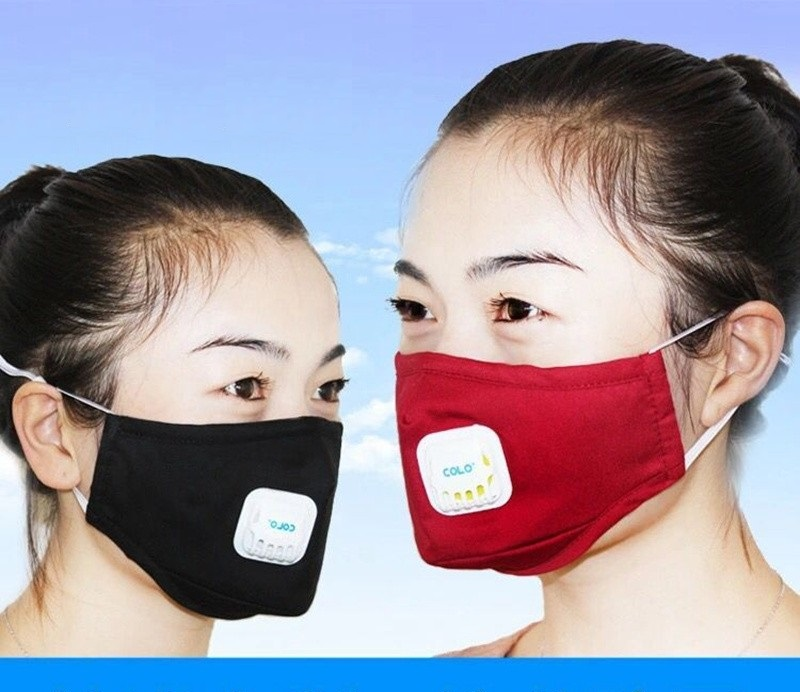face_mask: (393, 149, 679, 571), (92, 242, 351, 621)
